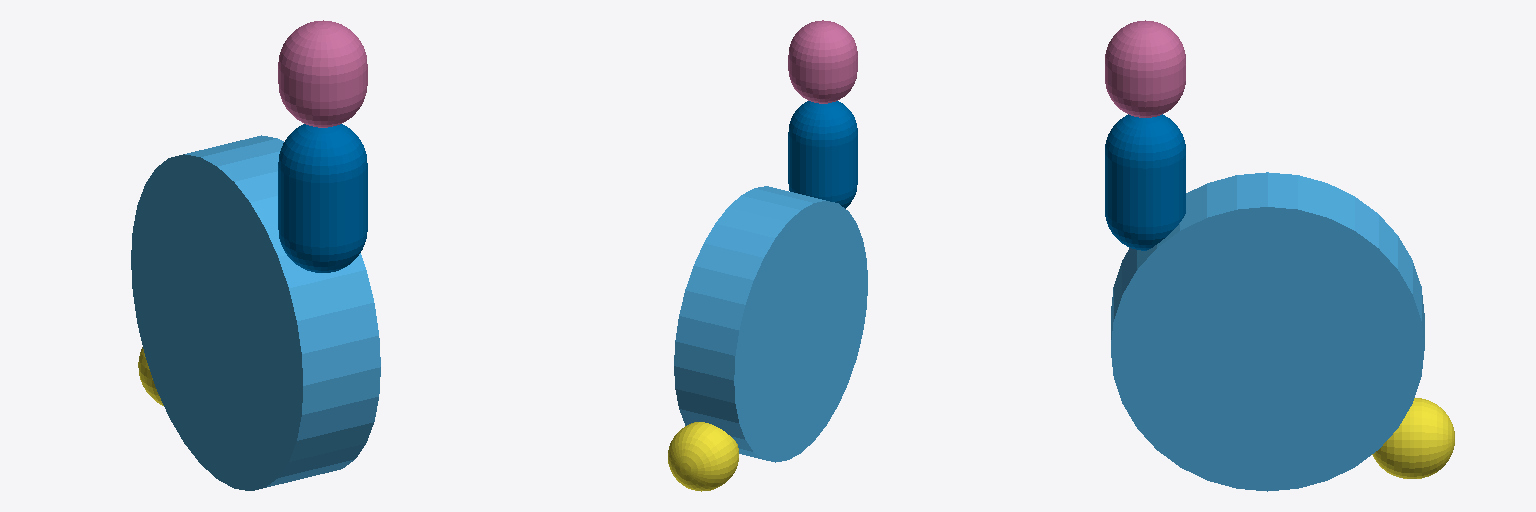
URDF robot description (DexterousHand):
<?xml version="1.0"?>
<robot name="DexterousHand">


    <link name="world"/>
    <joint name="world_to_palm" type="fixed">
        <parent link="world"/>
        <child link="palm"/>
        <origin xyz="0 0 0" rpy="0 0 0"/>
    </joint>
    <link name="palm">
        <inertial>
            <origin xyz="0 0 0.057" rpy="0 0 0"/>
            <mass value="0.30212892864"/>
            <inertia ixx="0.00049080844457568" ixy="0.0" ixz="0.0" iyy="0.00026746366246427523" iyz="0.0" izz="0.00026746366246427523"/>
        </inertial>
        <visual>
            <origin xyz="0 0 0.057" rpy="1.5708 0 1.5708"/>
            <geometry>
                <cylinder radius="0.057" length="0.0296"/>
            </geometry>
            <material name="default"/>
        </visual>
        <collision>
            <origin xyz="0 0 0.057" rpy="1.5708 0 1.5708"/>
            <geometry>
                <cylinder radius="0.057" length="0.0296"/>
            </geometry>
        </collision>
    </link>

    
    <joint name="thumb_joint1" type="revolute">
        <parent link="palm"/>
        <child link="thumb_base"/>
        <origin xyz="0.0029 0.0368 0.0157" rpy="-1.5708 -1.5708 0.0"/>
        <axis xyz="-1 0 0"/>
        <limit lower="-0.349" upper="2.094" effort="1.0" velocity="1.0"/>
    </joint>

    <link name="thumb_base"></link>

    <joint name="thumb_joint2" type="revolute">
        <parent link="thumb_base"/>
        <child link="thumb_proximal"/>
        <origin xyz="0.0 0.0 0.0" rpy="0.0 0.0 0.0"/>
        <axis xyz="0 0 1"/>
        <limit lower="-0.47" upper="2.443" effort="1.0" velocity="1.0"/>
    </joint>

    <link name="thumb_proximal">
        <inertial>
            <origin xyz="0 0 0.01565" rpy="0 0 0"/>
            <mass value="0.021538658803200002"/>
            <inertia ixx="2.9378910096388167e-06" ixy="0.0" ixz="0.0" 
            iyy="2.9378910096388167e-06" iyz="0.0" izz="2.358913912126464e-06"/>
        </inertial>
        <visual>
            <origin xyz="0 0 0.01565" rpy="0 0 0"/>
            <geometry>
                <cylinder radius="0.0148" length="0.0017000000000000001"/>
            </geometry>
            <material name="default"/>
        </visual>
        <visual>
            <origin xyz="0 0 0.0148" rpy="0 0 0"/>
            <geometry>
                <sphere radius="0.0148"/>
            </geometry>
            <material name="default"/>
        </visual>
        <visual>
            <origin xyz="0 0 0.0165" rpy="0 0 0"/>
            <geometry>
                <sphere radius="0.0148"/>
            </geometry>
            <material name="default"/>
        </visual>
        <collision>
            <origin xyz="0 0 0.01565" rpy="0 0 0"/>
            <geometry>
                <cylinder radius="0.0148" length="0.0017000000000000001"/>
            </geometry>
        </collision>
        <collision>
            <origin xyz="0 0 0.0148" rpy="0 0 0"/>
            <geometry>
                <sphere radius="0.0148"/>
            </geometry>
        </collision>
        <collision>
            <origin xyz="0 0 0.0165" rpy="0 0 0"/>
            <geometry>
                <sphere radius="0.0148"/>
            </geometry>
        </collision>
    </link>

    <joint name="thumb_joint3" type="revolute">
        <parent link="thumb_proximal"/>
        <child link="thumb_knuckle"/>
        <origin xyz="0.0 0.0 0.0" rpy="0.0 0.0 0.0"/>
        <axis xyz="1 0 0"/>
        <limit lower="0.0" upper="0.0" effort="1.0" velocity="1.0"/>
    </joint>

    <link name="thumb_knuckle"></link>

    <joint name="thumb_joint4" type="revolute">
        <parent link="thumb_knuckle"/>
        <child link="thumb_middle"/>
        <origin xyz="0 0 0" rpy="0 0 0"/> 
        <axis xyz="0 1 0"/>
        <limit lower="0.0" upper="0.0" effort="1.0" velocity="1.0"/>
    </joint>

    <link name="thumb_middle">
    </link>

    <joint name="thumb_joint5" type="revolute">
        <parent link="thumb_middle"/>
        <child link="thumb_distal"/>
        <origin xyz="0 0 0" rpy="0 0 0"/> 
        <axis xyz="0 1 0"/>
        <limit lower="0.0" upper="0.0" effort="1.0" velocity="1.0"/>
    </joint>

    <link name="thumb_distal">
    </link>

    
    <joint name="index_joint1" type="revolute">
        <parent link="palm"/>
        <child link="index_proximal"/>
        <origin xyz="0.0 0.0 0.0" rpy="0.0 0.0 0.0"/>
        <axis xyz="1 0 0"/>
        <limit lower="0.0" upper="0.0" effort="1.0" velocity="1.0"/>
    </joint>

    <link name="index_proximal">
    </link>

    <joint name="index_joint2" type="revolute">
        <parent link="index_proximal"/>
        <child link="index_dummy"/>
        <origin xyz="0.0 0.0 0.0" rpy="0.0 0.0 0.0"/>
        <axis xyz="0 1 0"/>
        <limit lower="0.0" upper="0.0" effort="1.0" velocity="1.0"/>
    </joint>

    <link name="index_dummy"></link>

    <joint name="index_joint3" type="revolute">
        <parent link="index_dummy"/>
        <child link="index_middle"/>
        <origin xyz="0 0 0" rpy="0 0 0"/>
        <axis xyz="0 1 0"/>
        <limit lower="0.0" upper="0.0" effort="1.0" velocity="1.0"/>
    </joint>

    <link name="index_middle">
    </link>

    <joint name="index_joint4" type="revolute">
        <parent link="index_middle"/>
        <child link="index_distal"/>
        <origin xyz="0 0 0" rpy="0 0 0"/> 
        <axis xyz="0 1 0"/>
        <limit lower="0.0" upper="0.0" effort="1.0" velocity="1.0"/>
    </joint>

    <link name="index_distal">
    </link>

    
    <joint name="middle_joint1" type="revolute">
        <parent link="palm"/>
        <child link="middle_proximal"/>
        <origin xyz="0.0 0.0 0.0" rpy="0.0 0.0 0.0"/>
        <axis xyz="1 0 0"/>
        <limit lower="0.0" upper="0.0" effort="1.0" velocity="1.0"/>
    </joint>

    <link name="middle_proximal">
    </link>

    <joint name="middle_joint2" type="revolute">
        <parent link="middle_proximal"/>
        <child link="middle_dummy"/>
        <origin xyz="0.0 0.0 0.0" rpy="0.0 0.0 0.0"/>
        <axis xyz="0 1 0"/>
        <limit lower="0.0" upper="0.0" effort="1.0" velocity="1.0"/>
    </joint>

    <link name="middle_dummy"></link>

    <joint name="middle_joint3" type="revolute">
        <parent link="middle_dummy"/>
        <child link="middle_middle"/>
        <origin xyz="0 0 0" rpy="0 0 0"/>
        <axis xyz="0 1 0"/>
        <limit lower="0.0" upper="0.0" effort="1.0" velocity="1.0"/>
    </joint>

    <link name="middle_middle">
    </link>

    <joint name="middle_joint4" type="revolute">
        <parent link="middle_middle"/>
        <child link="middle_distal"/>
        <origin xyz="0 0 0" rpy="0 0 0"/> 
        <axis xyz="0 1 0"/>
        <limit lower="0.0" upper="0.0" effort="1.0" velocity="1.0"/>
    </joint>

    <link name="middle_distal">
    </link>

    
    <joint name="ring_joint1" type="revolute">
        <parent link="palm"/>
        <child link="ring_proximal"/>
        <origin xyz="0.0 0.0 0.0" rpy="0.0 0.0 0.0"/>
        <axis xyz="1 0 0"/>
        <limit lower="0.0" upper="0.0" effort="1.0" velocity="1.0"/>
    </joint>

    <link name="ring_proximal">
    </link>

    <joint name="ring_joint2" type="revolute">
        <parent link="ring_proximal"/>
        <child link="ring_dummy"/>
        <origin xyz="0.0 0.0 0.0" rpy="0.0 0.0 0.0"/>
        <axis xyz="0 1 0"/>
        <limit lower="0.0" upper="0.0" effort="1.0" velocity="1.0"/>
    </joint>

    <link name="ring_dummy"></link>

    <joint name="ring_joint3" type="revolute">
        <parent link="ring_dummy"/>
        <child link="ring_middle"/>
        <origin xyz="0 0 0" rpy="0 0 0"/>
        <axis xyz="0 1 0"/>
        <limit lower="0.0" upper="0.0" effort="1.0" velocity="1.0"/>
    </joint>

    <link name="ring_middle">
    </link>

    <joint name="ring_joint4" type="revolute">
        <parent link="ring_middle"/>
        <child link="ring_distal"/>
        <origin xyz="0 0 0" rpy="0 0 0"/> 
        <axis xyz="0 1 0"/>
        <limit lower="0.0" upper="0.0" effort="1.0" velocity="1.0"/>
    </joint>

    <link name="ring_distal">
    </link>

    
    <joint name="little_joint0" type="revolute">
        <parent link="palm"/>
        <child link="little_base"/>
        <origin xyz="0.0 0.0 0.0" rpy="0.0 0.0 0.0"/>
        <axis xyz="0 1 0"/>
        <limit lower="0.0" upper="0.0" effort="1.0" velocity="1.0"/>
    </joint>

    <link name="little_base"></link>

    <joint name="little_joint1" type="revolute">
        <parent link="little_base"/>
        <child link="little_proximal"/>
        <origin xyz="0.0 -0.0443 0.091" rpy="-0.0 -0.0 -0.0"/>
        <axis xyz="0 1 0"/>
        <limit lower="-0.314" upper="2.23" effort="1.0" velocity="1.0"/>
    </joint>

    <link name="little_proximal">
        <inertial>
            <origin xyz="0 0 0.02655" rpy="0 0 0"/>
            <mass value="0.036540024998400006"/>
            <inertia ixx="1.058665009272394e-05" ixy="0.0" ixz="0.0" 
            iyy="1.058665009272394e-05" iyz="0.0" izz="4.001863537824769e-06"/>
        </inertial>
        <visual>
            <origin xyz="0 0 0.02655" rpy="0 0 0"/>
            <geometry>
                <cylinder radius="0.0148" length="0.0235"/>
            </geometry>
            <material name="default"/>
        </visual>
        <visual>
            <origin xyz="0 0 0.0148" rpy="0 0 0"/>
            <geometry>
                <sphere radius="0.0148"/>
            </geometry>
            <material name="default"/>
        </visual>
        <visual>
            <origin xyz="0 0 0.0383" rpy="0 0 0"/>
            <geometry>
                <sphere radius="0.0148"/>
            </geometry>
            <material name="default"/>
        </visual>
        <collision>
            <origin xyz="0 0 0.02655" rpy="0 0 0"/>
            <geometry>
                <cylinder radius="0.0148" length="0.0235"/>
            </geometry>
        </collision>
        <collision>
            <origin xyz="0 0 0.0148" rpy="0 0 0"/>
            <geometry>
                <sphere radius="0.0148"/>
            </geometry>
        </collision>
        <collision>
            <origin xyz="0 0 0.0383" rpy="0 0 0"/>
            <geometry>
                <sphere radius="0.0148"/>
            </geometry>
        </collision>
    </link>

    <joint name="little_joint2" type="revolute">
        <parent link="little_proximal"/>
        <child link="little_dummy"/>
        <origin xyz="0.0 0.0 0.038" rpy="0.0 0.0 0.0"/>
        <axis xyz="1 0 0"/>
        <limit lower="-1.047" upper="1.047" effort="1.0" velocity="1.0"/>
    </joint>

    <link name="little_dummy"></link>

    <joint name="little_joint3" type="revolute">
        <parent link="little_dummy"/>
        <child link="little_middle"/>
        <origin xyz="0 0 0.015100000000000002" rpy="0 0 0"/>
        <axis xyz="0 1 0"/>
        <limit lower="-0.506" upper="1.885" effort="1.0" velocity="1.0"/>
    </joint>

    <link name="little_middle">
        <inertial>
            <origin xyz="0 0 0.01805" rpy="0 0 0"/>
            <mass value="0.0248417119104"/>
            <inertia ixx="4.058162759109537e-06" ixy="0.0" ixz="0.0" 
            iyy="4.058162759109537e-06" iyz="0.0" izz="2.7206642884270085e-06"/>
        </inertial>
        <visual>
            <origin xyz="0 0 0.01805" rpy="0 0 0"/>
            <geometry>
                <cylinder radius="0.0148" length="0.006499999999999999"/>
            </geometry>
            <material name="default"/>
        </visual>
        <visual>
            <origin xyz="0 0 0.0148" rpy="0 0 0"/>
            <geometry>
                <sphere radius="0.0148"/>
            </geometry>
            <material name="default"/>
        </visual>
        <visual>
            <origin xyz="0 0 0.0213" rpy="0 0 0"/>
            <geometry>
                <sphere radius="0.0148"/>
            </geometry>
            <material name="default"/>
        </visual>
        <collision>
            <origin xyz="0 0 0.01805" rpy="0 0 0"/>
            <geometry>
                <cylinder radius="0.0148" length="0.006499999999999999"/>
            </geometry>
        </collision>
        <collision>
            <origin xyz="0 0 0.0148" rpy="0 0 0"/>
            <geometry>
                <sphere radius="0.0148"/>
            </geometry>
        </collision>
        <collision>
            <origin xyz="0 0 0.0213" rpy="0 0 0"/>
            <geometry>
                <sphere radius="0.0148"/>
            </geometry>
        </collision>
    </link>

    <joint name="little_joint4" type="revolute">
        <parent link="little_middle"/>
        <child link="little_distal"/>
        <origin xyz="0 0 0.0361" rpy="0 0 0"/>
        <axis xyz="0 1 0"/>
        <limit lower="0.0" upper="0.0" effort="1.0" velocity="1.0"/>
    </joint>

    <link name="little_distal">
    </link>

</robot>

--- Facts derived from the render (not from the file) ---
Views: 3 orthographic renders of the robot side by side, from view 1: azimuth 30°, elevation 25°; view 2: azimuth 150°, elevation 25°; view 3: azimuth 270°, elevation 25°.
Robot: DexterousHand — 24 links, 23 joints (22 revolute, 1 fixed); root link world; default pose: every joint at zero.
Links seen in each view (by area): view 1: palm, little_proximal, little_middle; view 2: palm, little_proximal, little_middle, thumb_proximal; view 3: palm, little_proximal, little_middle, thumb_proximal.
Link boxes in pixels (x1,y1,x2,y2): palm: (131,135,380,490); little_proximal: (278,124,367,272); little_middle: (278,20,367,127); palm: (674,186,867,462); little_proximal: (788,101,857,208); little_middle: (788,20,857,103); thumb_proximal: (668,422,738,491); palm: (1111,172,1424,491); little_proximal: (1105,114,1185,250); little_middle: (1105,20,1185,117); thumb_proximal: (1372,398,1454,478).
Bounding box of the posed robot: 0.0325 × 0.1272 × 0.1802 m (x, y, z).
Geometry: primitives only (box / cylinder / sphere), no mesh files.
